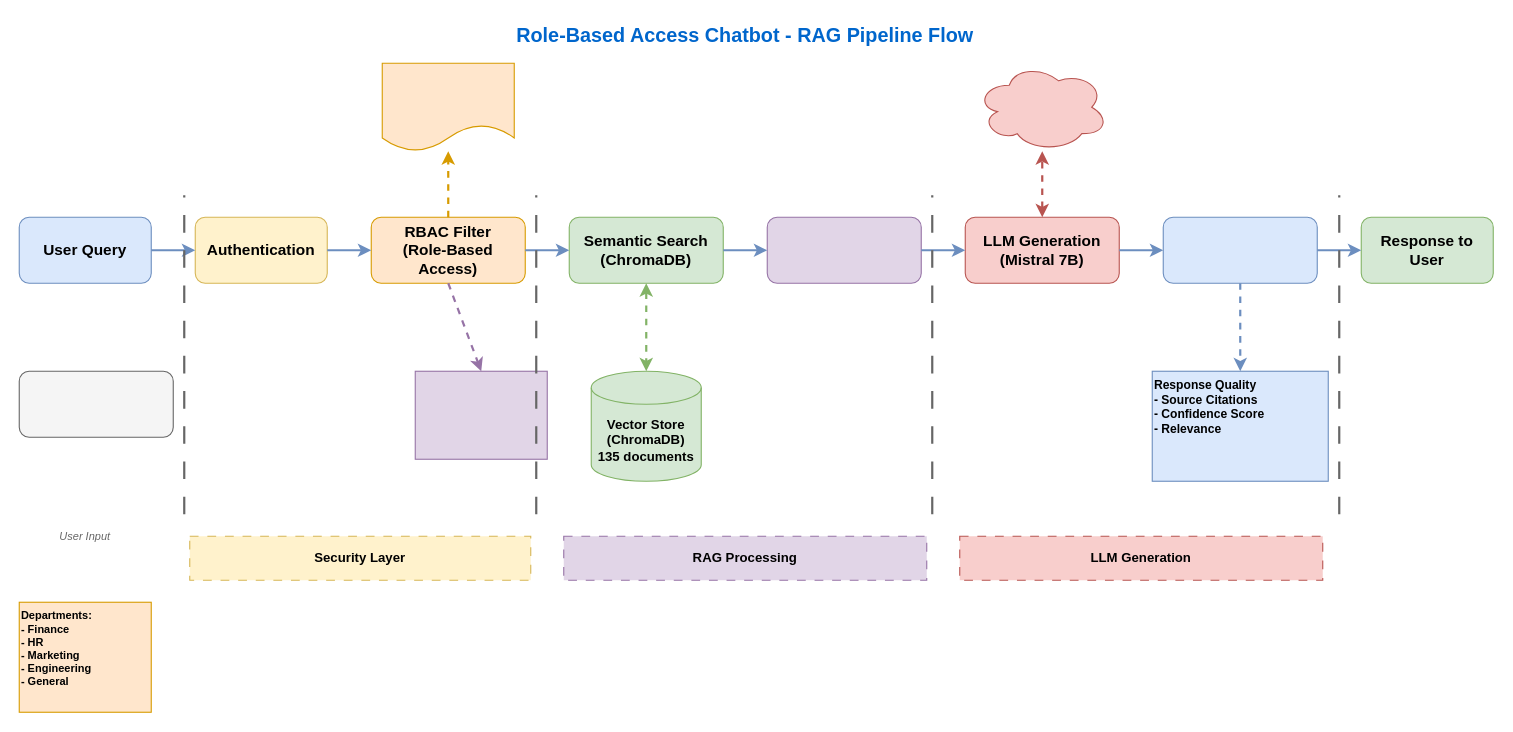
The diagram is 1513 pixels wide and 732 high, and some of its shapes have lost their labels. Here are the shapes that lost their labels. From the top down, the box of each, then its label:
(381, 62, 514, 151): RBAC Rules (Finance/HR/ Marketing/Eng)
(975, 62, 1108, 151): LLM API (OpenRouter) Mistral 7B
(766, 216, 921, 283): Context Augmentation
(1162, 216, 1317, 283): Source Attribution & Confidence
(18, 370, 173, 437): Performance: ~20ms search ~1.5-3.5s total
(414, 370, 547, 459): Embeddings Model (MiniLM-L6-v2)
